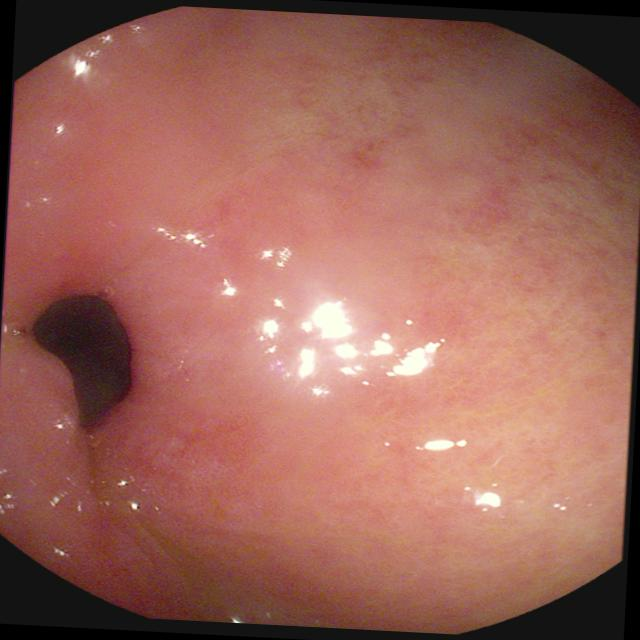normal-pylorus: (0, 319, 191, 628)
